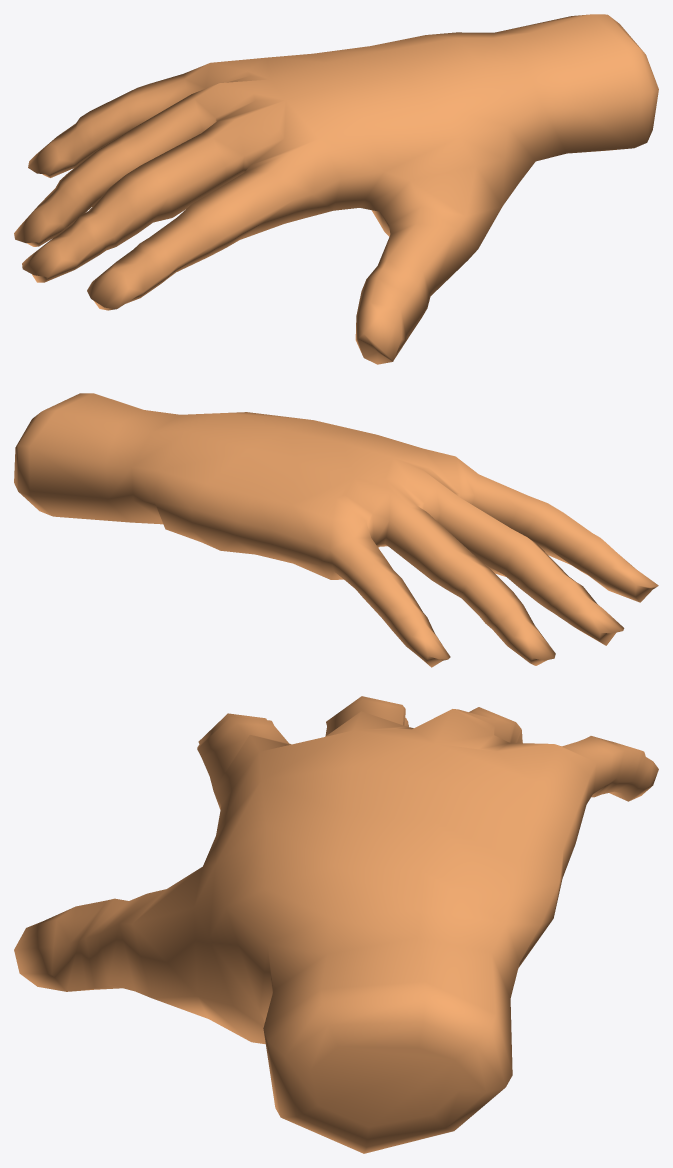
The model's file is HandBlend.fbx.
3 views of the same model, one above another, from view 1: azimuth 30°, elevation 25°; view 2: azimuth 150°, elevation 25°; view 3: azimuth 270°, elevation 25° (orthographic). The views are drawn at different scales.
Parts seen in each view (by area): view 1: Plane005; view 2: Plane005; view 3: Plane005.
Boxes of the visible parts, x1,y1,x2,y2 form: Plane005: (14, 14, 658, 364); Plane005: (14, 393, 658, 667); Plane005: (14, 696, 658, 1153).
Bounding box in the file's own units: 1.05 × 0.3016 × 0.6656.
